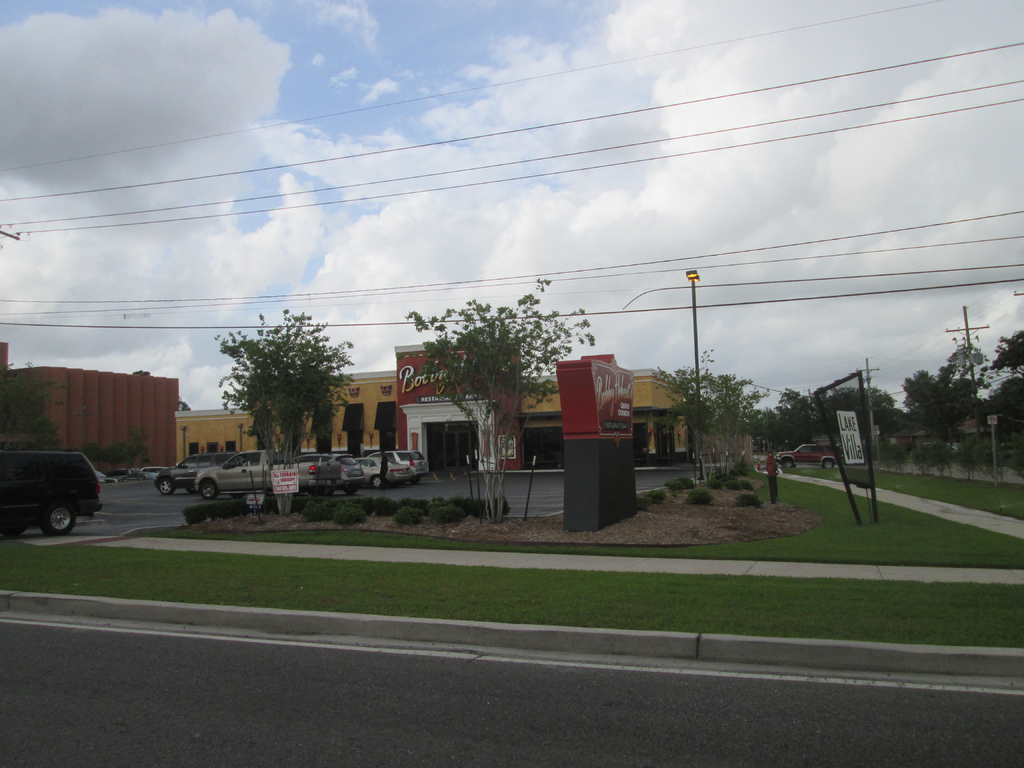Car: (152, 445, 437, 498)
